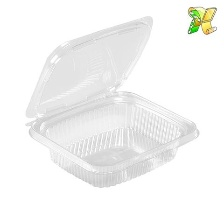plastic_box: (19, 11, 207, 194)
